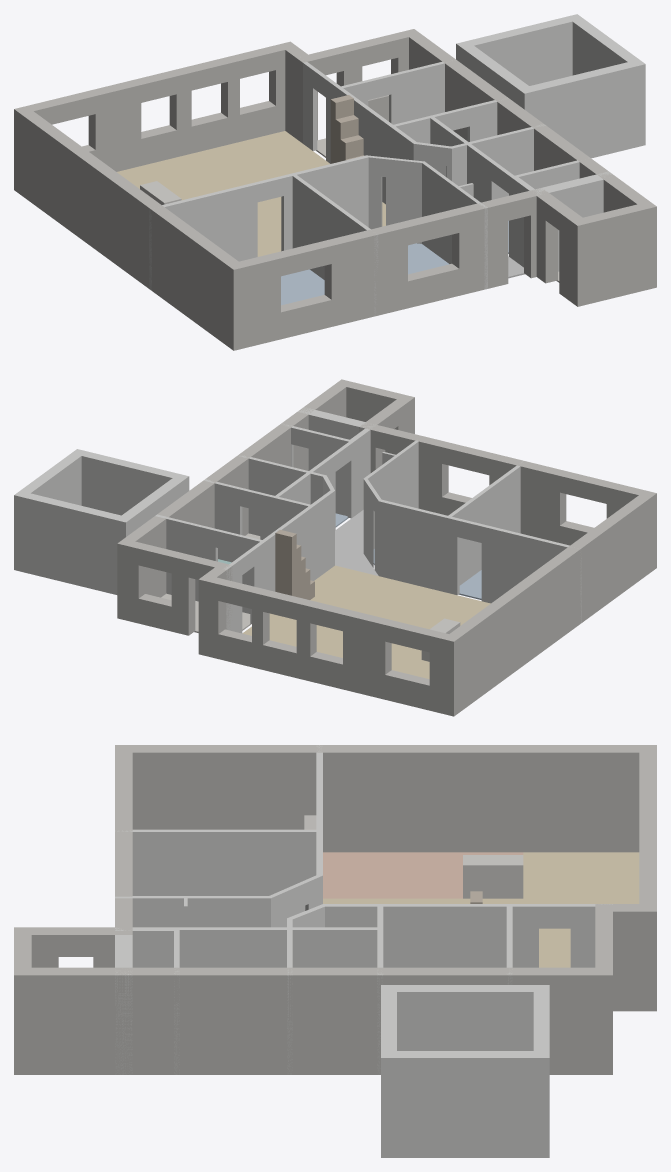
The model's file is PROP_1059.glb.
The picture shows the model from 3 angles, top to bottom: view 1: azimuth 30°, elevation 25°; view 2: azimuth 150°, elevation 25°; view 3: azimuth 270°, elevation 25°; orthographic projection. The views are drawn at different scales.
Parts seen in each view (by area): view 1: L0_wall_F0_W6, L0_wall_F0_W7, L0_wall_F0_W0, L0_wall_F0_W11, L0_floor_F0_R2_0, L0_wall_F0_W23, L0_wall_F0_W3, L0_wall_F0_W4, L0_wall_F0_W21, L0_wall_F0_W14, L0_wall_F0_W5, L0_wall_F0_W17 (+18 smaller); view 2: L0_wall_F0_W0, L0_wall_F0_W7, L0_wall_F0_W6, L0_wall_F0_W11, L0_wall_F0_W21, L0_floor_F0_R2_0, L0_wall_F0_W3, L0_wall_F0_W2, L0_wall_F0_W14, L0_wall_F0_W23, L0_wall_F0_W25, L0_wall_F0_W18 (+14 smaller); view 3: L0_wall_F0_W7, L0_wall_F0_W3, L0_wall_F0_W22, L0_wall_F0_W14, L0_wall_F0_W25, L0_wall_F0_W20, L0_floor_F0_R2_0, L0_wall_F0_W19, L0_floor_F0_R3_0, L0_wall_F0_W9, L0_wall_F0_W1, L0_wall_F0_W6 (+13 smaller).
Part boxes in pixels (x1,y1,x2,y2): L0_wall_F0_W6: (233, 188, 540, 350); L0_wall_F0_W7: (14, 109, 238, 350); L0_wall_F0_W0: (15, 42, 289, 171); L0_wall_F0_W11: (149, 155, 368, 290); L0_floor_F0_R2_0: (117, 131, 385, 256); L0_wall_F0_W23: (524, 62, 645, 158); L0_wall_F0_W3: (409, 29, 656, 212); L0_wall_F0_W4: (577, 204, 656, 306); L0_wall_F0_W21: (457, 14, 576, 85); L0_wall_F0_W14: (300, 57, 416, 204); L0_wall_F0_W5: (536, 189, 582, 306); L0_wall_F0_W17: (337, 59, 455, 124); L0_wall_F0_W0: (198, 577, 453, 716); L0_wall_F0_W7: (449, 493, 656, 716); L0_wall_F0_W6: (359, 425, 656, 545); L0_wall_F0_W11: (379, 499, 581, 623); L0_wall_F0_W21: (14, 493, 125, 594); L0_floor_F0_R2_0: (242, 565, 490, 679); L0_wall_F0_W3: (117, 379, 346, 597); L0_wall_F0_W2: (117, 541, 230, 635); L0_wall_F0_W14: (223, 490, 334, 633); L0_wall_F0_W23: (77, 449, 188, 515); L0_wall_F0_W25: (446, 460, 523, 585); L0_wall_F0_W18: (203, 479, 310, 562); L0_wall_F0_W7: (115, 745, 656, 852); L0_wall_F0_W3: (14, 967, 612, 1074); L0_wall_F0_W22: (381, 1051, 549, 1157); L0_wall_F0_W14: (323, 904, 612, 967); L0_wall_F0_W25: (115, 829, 322, 895); L0_wall_F0_W20: (381, 985, 548, 1050); L0_floor_F0_R2_0: (323, 852, 639, 967); L0_wall_F0_W19: (175, 927, 377, 967); L0_floor_F0_R3_0: (323, 852, 523, 898); L0_wall_F0_W9: (115, 896, 270, 967); L0_wall_F0_W1: (596, 904, 656, 1011); L0_wall_F0_W6: (115, 745, 132, 934).
Size of the model in its own units: 18.13 by 2.8 by 15.75.
